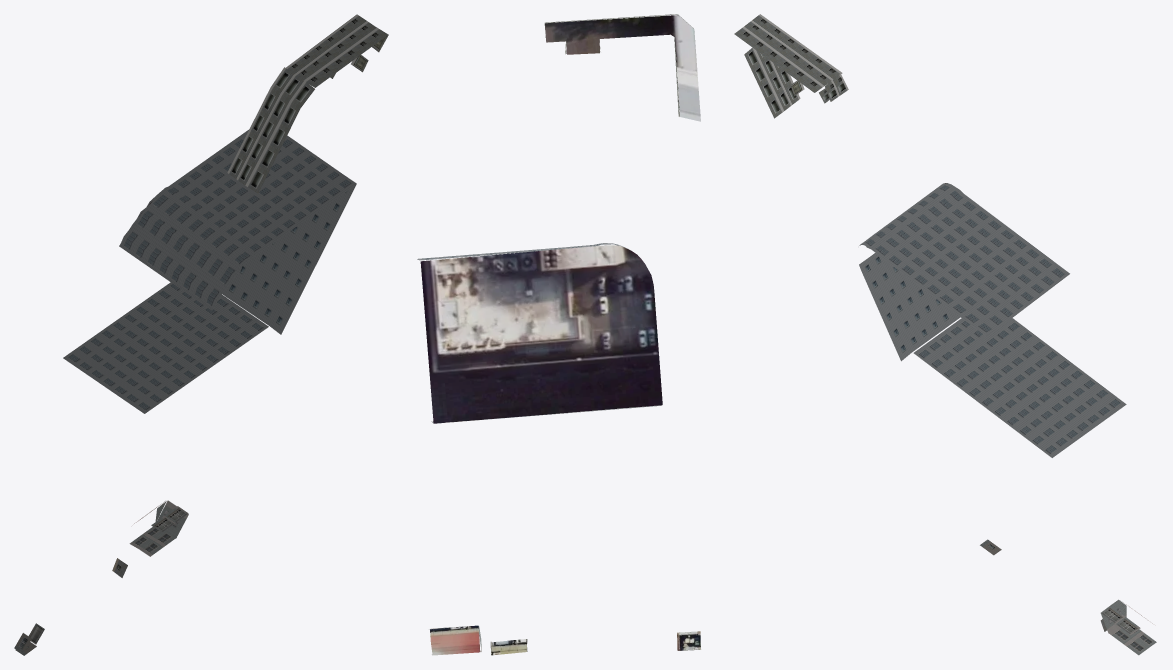
File: tile_LOD4_r6_c14.glb
3 renders of one model, left to right at view 1: azimuth 30°, elevation 25°; view 2: azimuth 150°, elevation 25°; view 3: azimuth 270°, elevation 25°, orthographic. The views are drawn at different scales.
Size of the model in its own units: 91.25 by 164 by 107.
23 materials, 23 textured.
